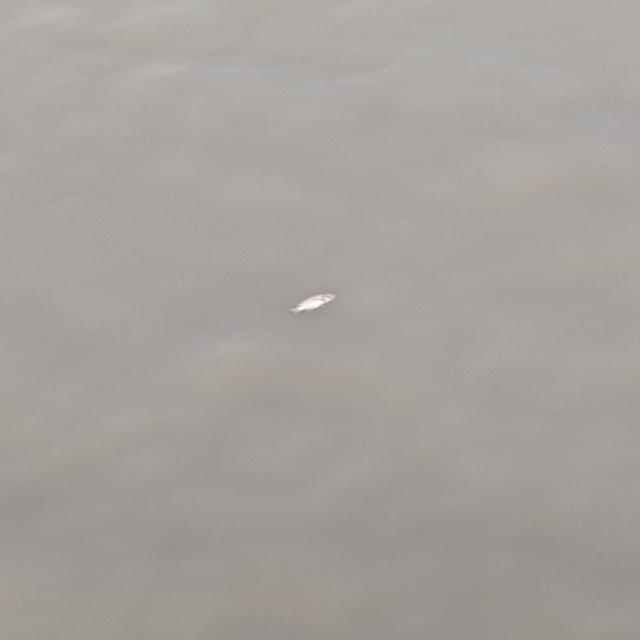Organic Debris: (286, 283, 351, 320)
